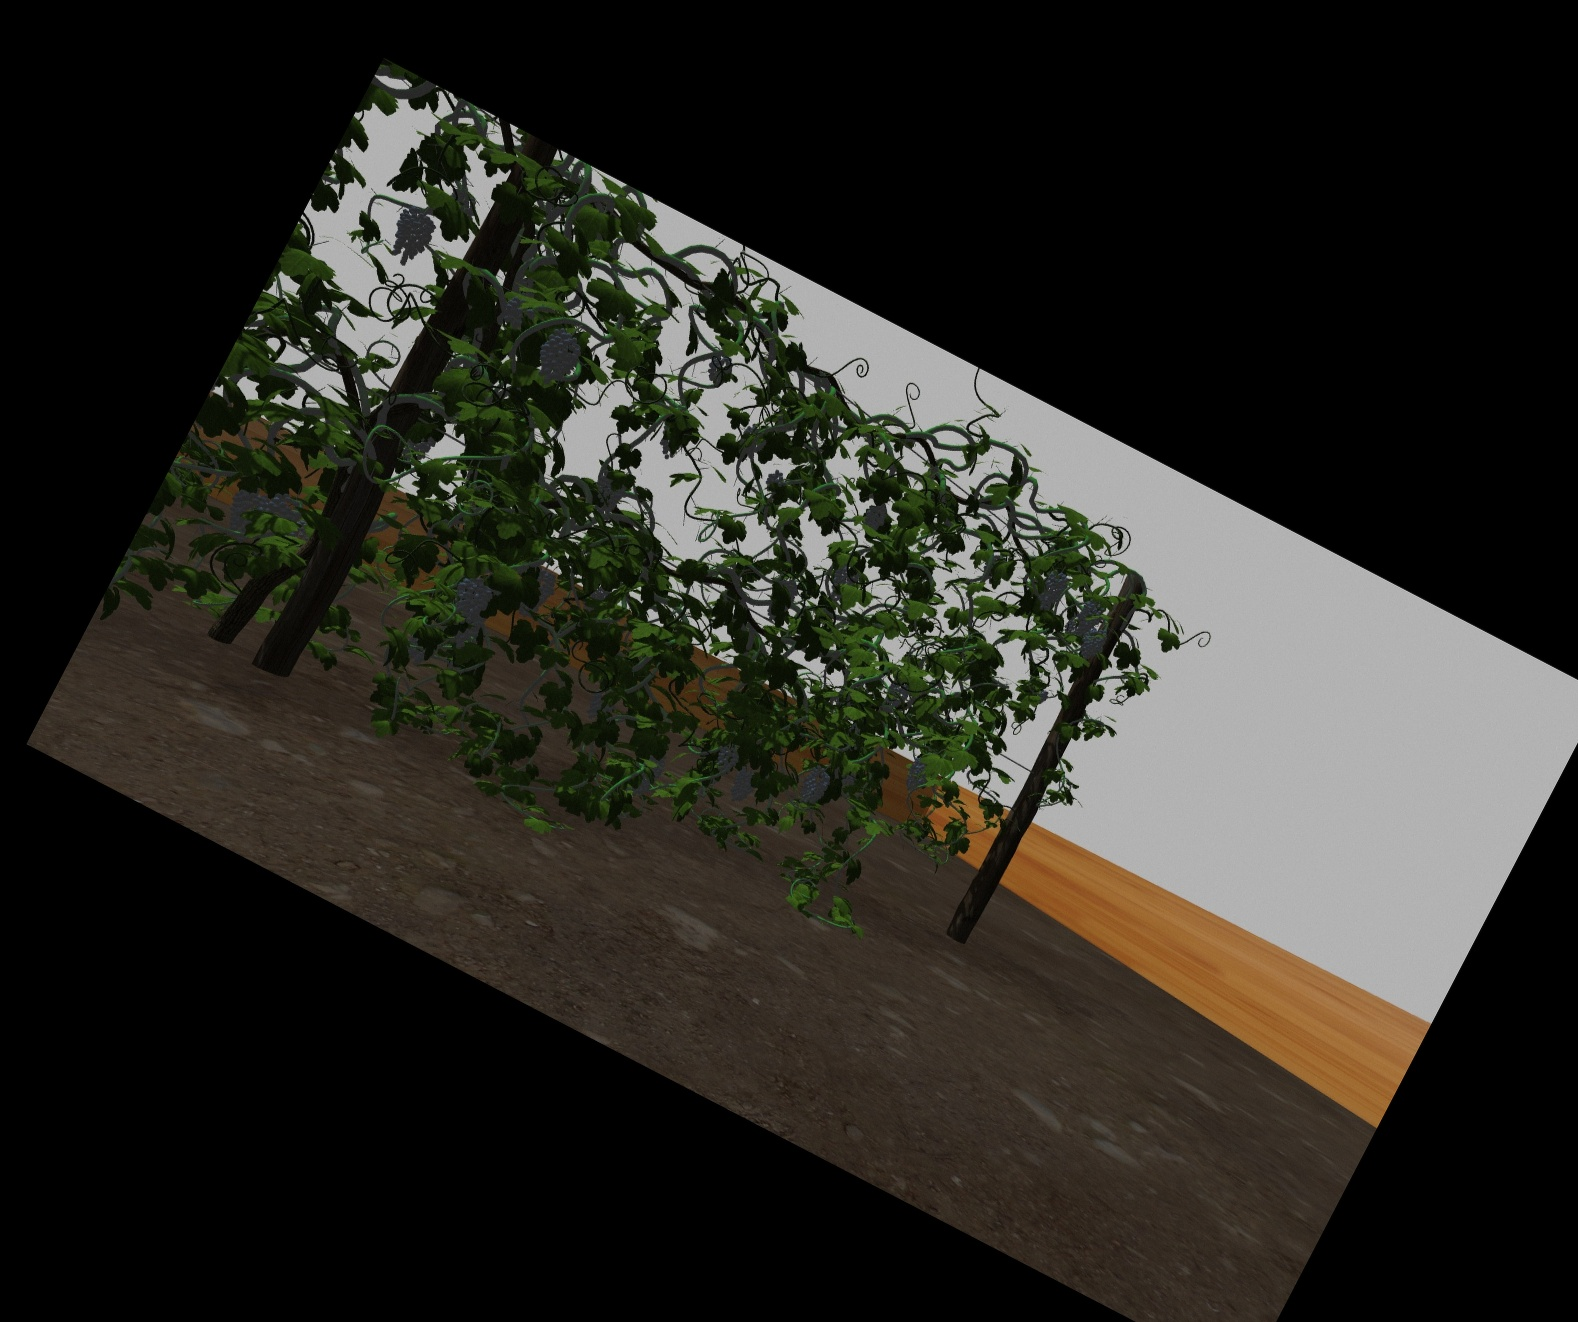grape: (449, 581, 488, 644), (392, 210, 430, 262), (540, 330, 576, 382), (521, 569, 552, 616), (228, 489, 256, 532), (596, 473, 623, 511), (265, 496, 306, 519), (803, 766, 826, 804), (1042, 571, 1064, 609), (733, 765, 754, 803), (863, 504, 887, 532), (1083, 627, 1104, 658), (1080, 598, 1101, 630), (906, 758, 927, 790), (504, 302, 530, 327), (716, 746, 736, 772), (704, 359, 725, 382), (767, 470, 786, 487)
